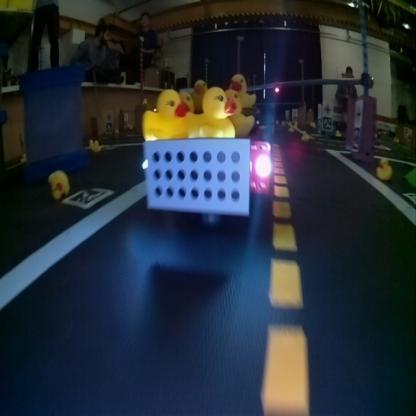Duckie: (189, 87, 234, 137), (144, 89, 188, 135), (223, 91, 253, 131), (230, 74, 256, 105), (48, 169, 68, 196), (191, 80, 206, 108), (376, 156, 390, 178), (92, 140, 100, 150)
Duckiebot: (144, 122, 272, 218)
Intersection sign: (354, 102, 362, 124), (322, 103, 332, 115)
QR code: (63, 186, 113, 207), (322, 119, 332, 129), (354, 127, 358, 150)
